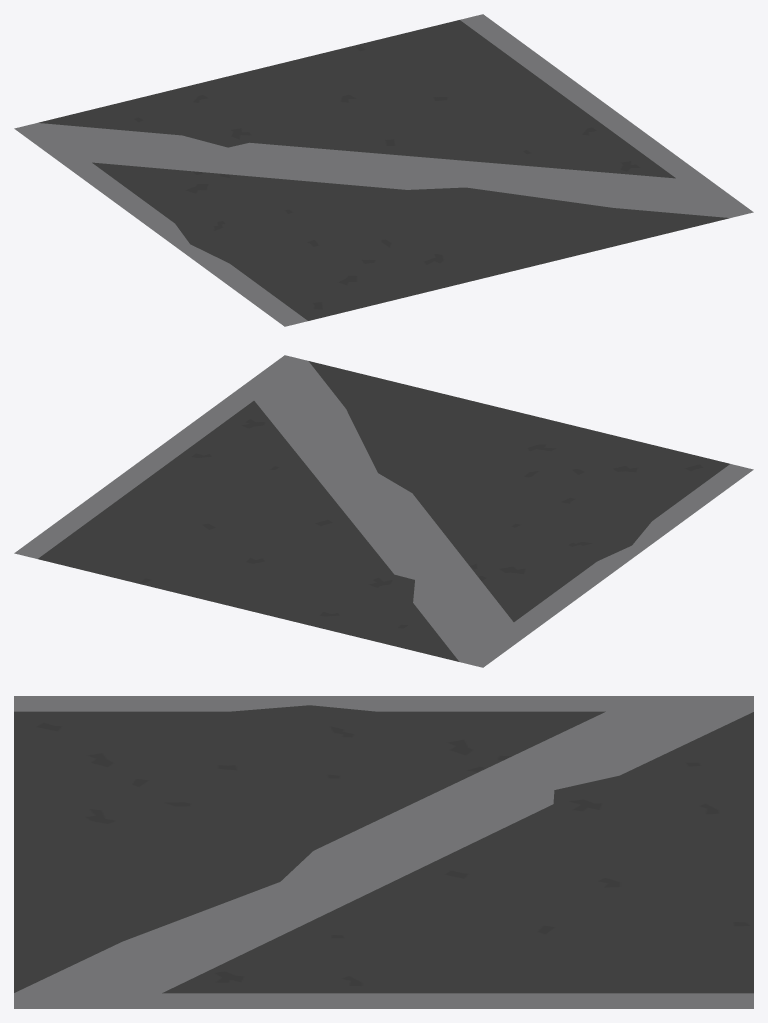
File: SM_Env_Road_Median_01.glb
3 views of the same model, one above another, from view 1: azimuth 30°, elevation 25°; view 2: azimuth 150°, elevation 25°; view 3: azimuth 270°, elevation 25° (orthographic). The views are drawn at different scales.
Visible parts, largest first — view 1: SM_Env_Road_Median_01; view 2: SM_Env_Road_Median_01; view 3: SM_Env_Road_Median_01.
Part boxes in pixels (x1,y1,x2,y2): SM_Env_Road_Median_01: (14,14,753,326); SM_Env_Road_Median_01: (14,355,753,667); SM_Env_Road_Median_01: (14,696,753,1008).
Bounding box in the file's own units: 5 × 0 × 5.
1 material, 1 textured.
